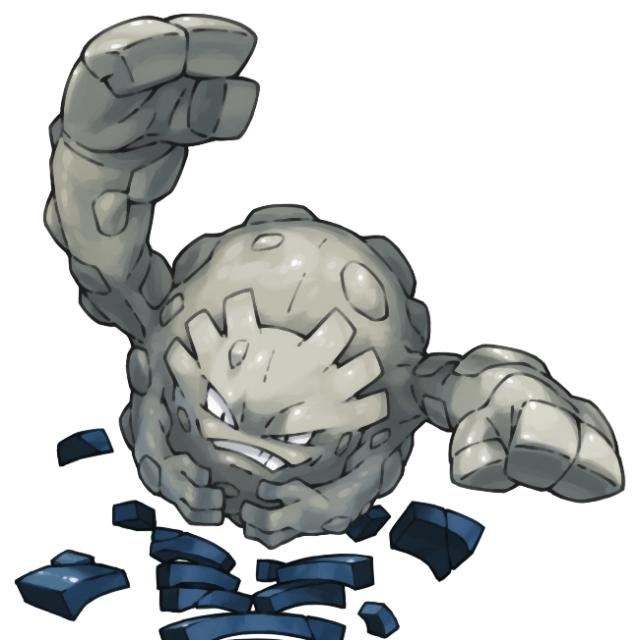Graveler: (41, 4, 634, 528)
